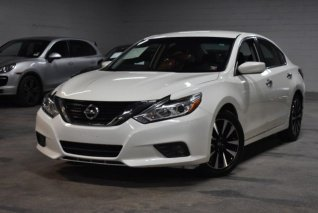car: (31, 26, 306, 180), (0, 32, 104, 105)
